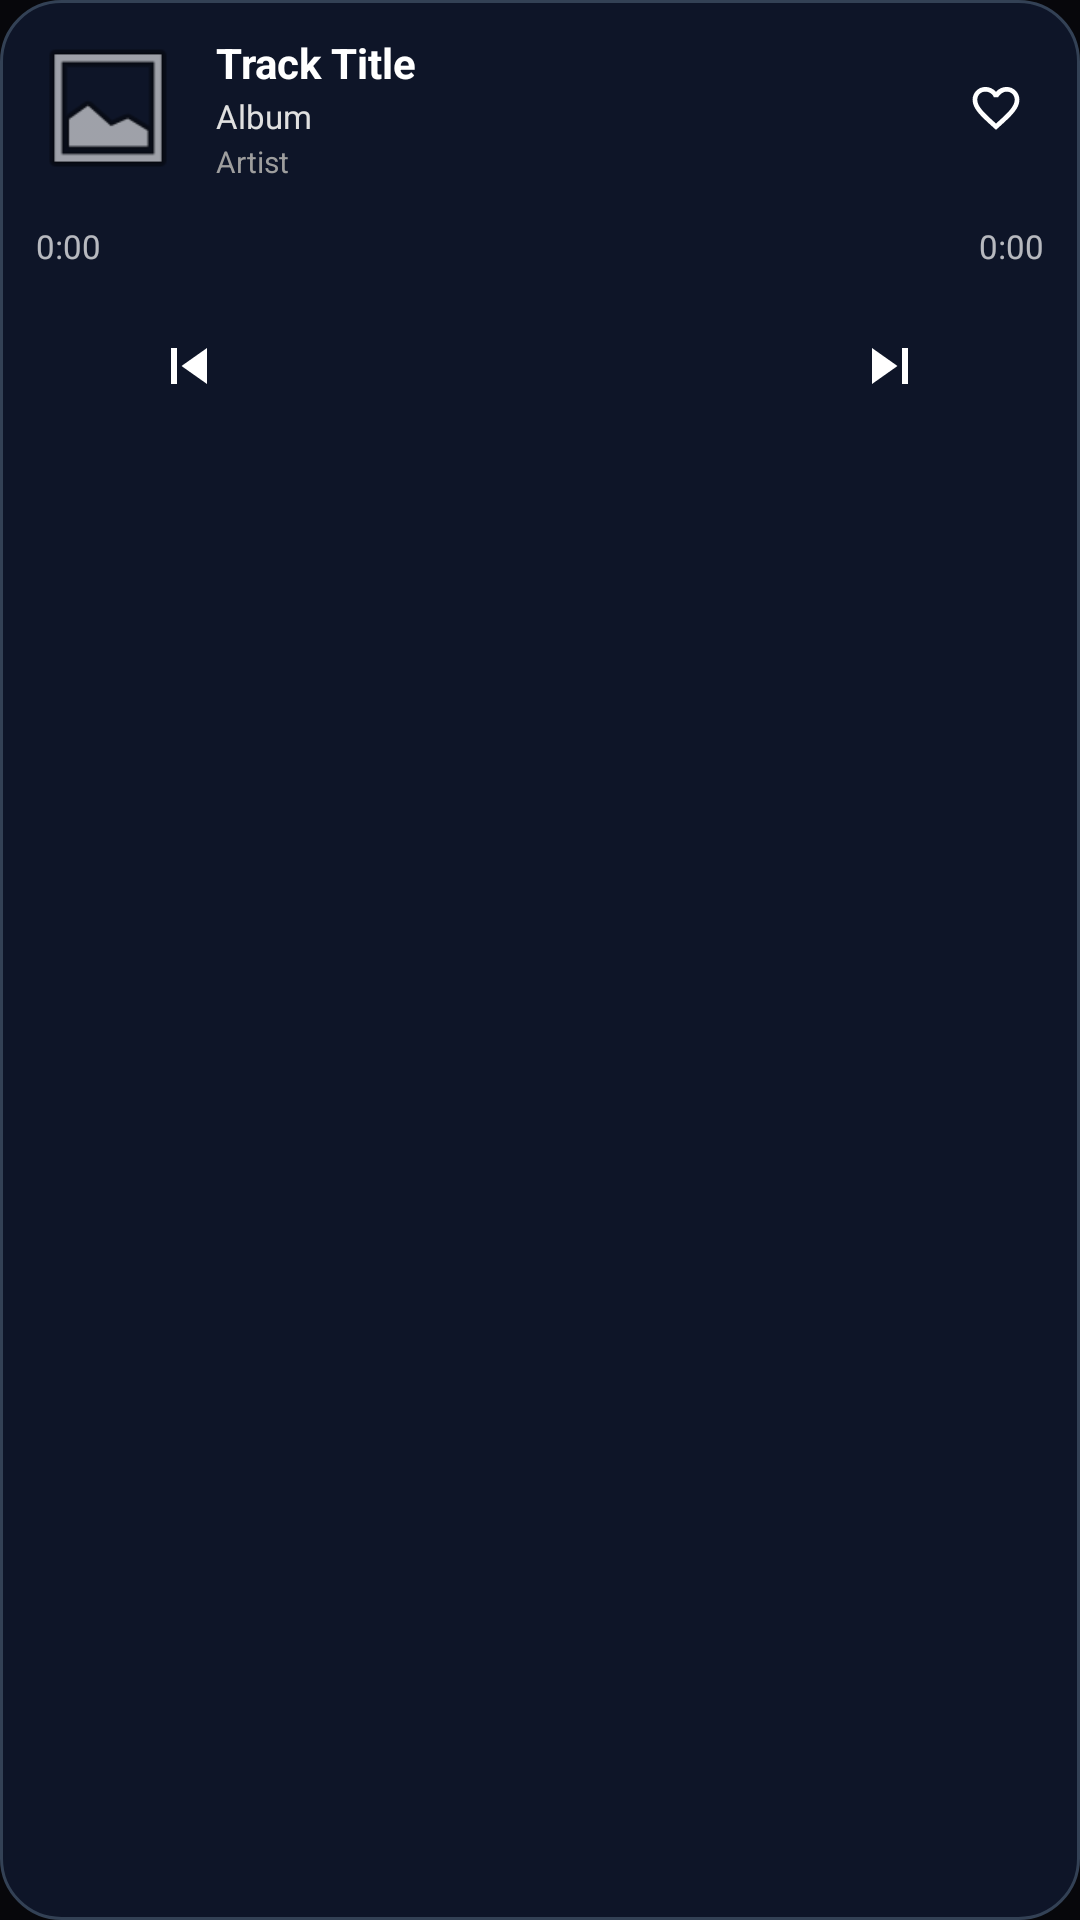

Icons on this 1080 × 1920 Android screen, each with the point to tap as (x,y):
Favorite: (996,108)
Next: (890,366)
Previous: (189,366)
